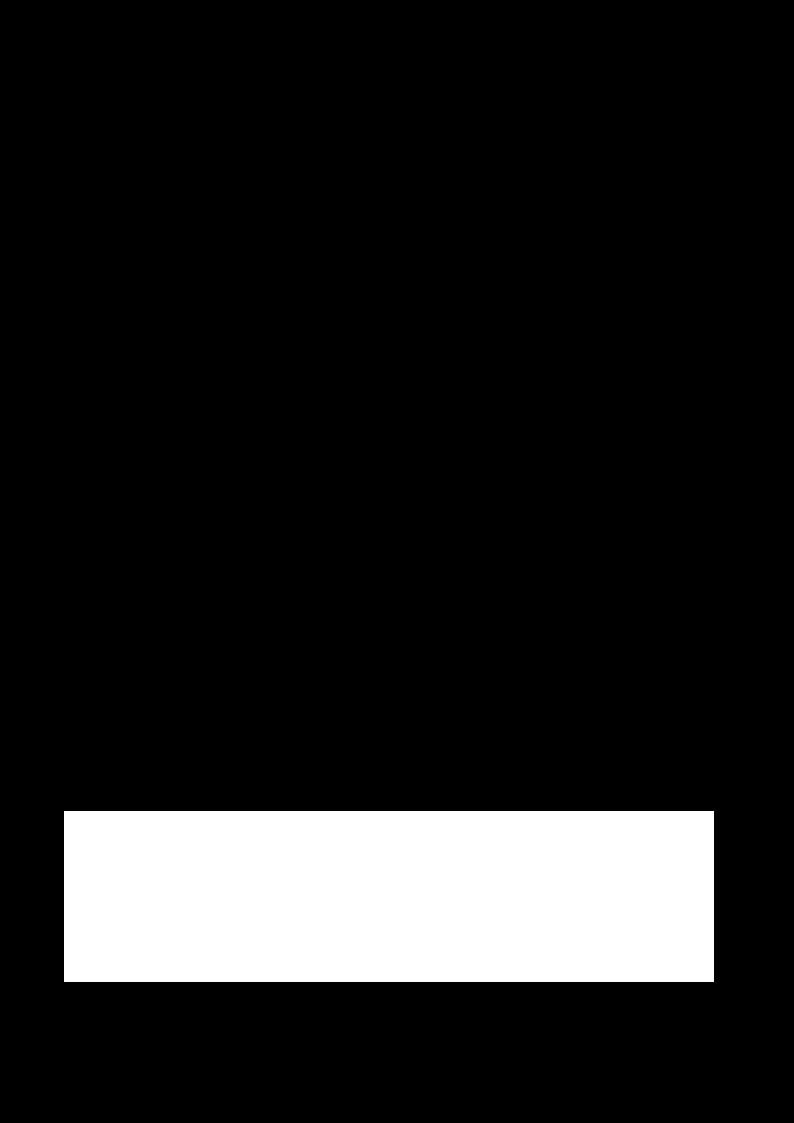table: (64, 811, 713, 981)
